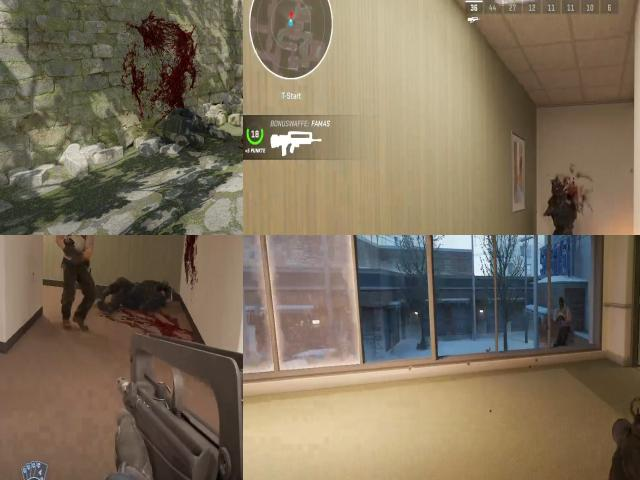CT: (547, 175, 576, 235)
CT-Head: (550, 176, 566, 204)
Dead: (157, 99, 239, 152), (111, 273, 176, 322)
T: (53, 235, 100, 284)
T-Head: (556, 292, 572, 339), (558, 293, 568, 313)
